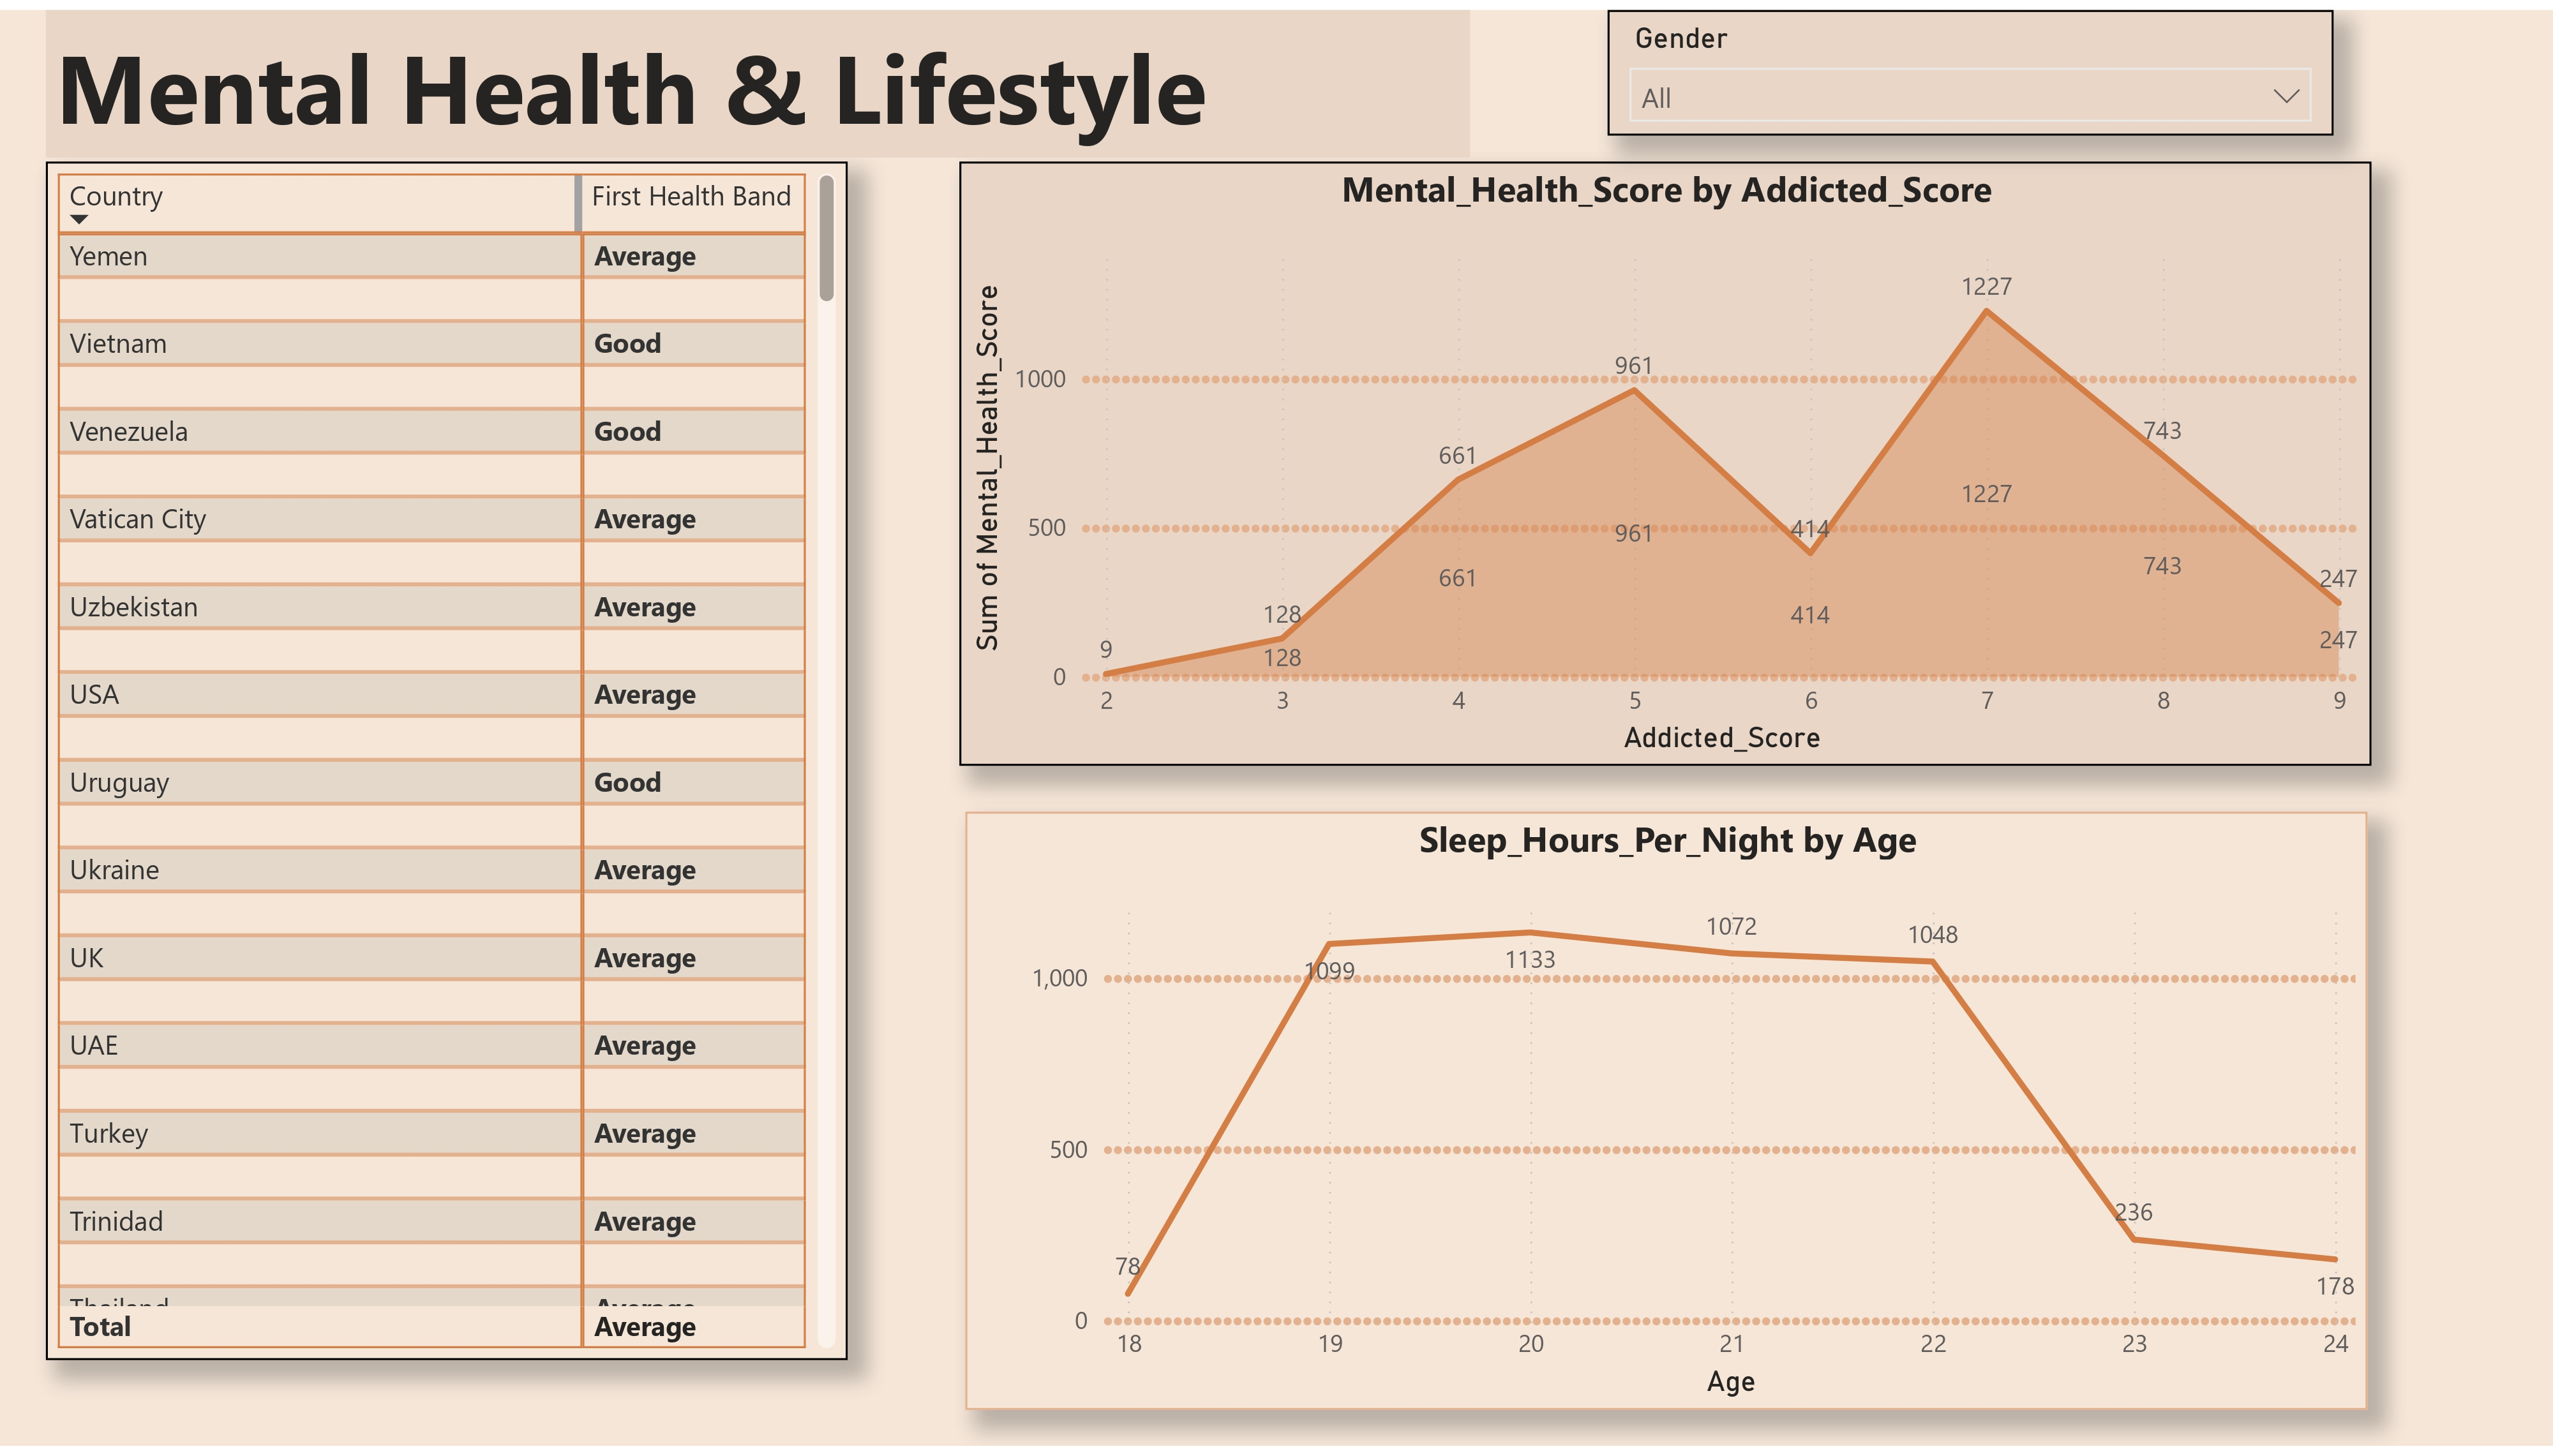

The page's visual inventory and layout, read from the dashboard file:
{"tool":"powerbi","page":{"name":"Mental Health & Lifestyle","canvas":[1280,720],"ordinal":1},"visuals":[{"type":"pivotTable","fields":{"Rows":["Student Details.Country"],"Values":["Min(Student Details.Health Band)"]},"box":[359.5,194.3,451.8,259.1],"z":0},{"type":"stackedAreaChart","title":" Mental_Health_Score by Addicted_Score","fields":{"Category":["Student Details.Addicted_Score"],"Y":["Sum(Student Details.Mental_Health_Score)"]},"box":[840.4,194.3,425.9,259.1],"z":1000},{"type":"lineChart","title":" Sleep_Hours_Per_Night by Age","fields":{"Category":["Student Details.Age"],"Y":["Sum(Student Details.Sleep_Hours_Per_Night)"]},"box":[362.7,471.2,903.5,229.9],"z":2000},{"type":"textbox","box":[22.7,0,714.1,74.5],"z":3000},{"type":"slicer","fields":{"Values":["Student Details.Gender"]},"box":[25.9,74.5,223.5,98.8],"z":3001},{"type":"slicer","fields":{"Values":["Student Details.Country"]},"box":[19.4,336.8,225.1,218.6],"z":3002},{"type":"slicer","fields":{"Values":["Student Details.Academic_Level"]},"box":[22.7,571.6,221.8,129.5],"z":3003},{"type":"slicer","fields":{"Values":["Student Details.Age"]},"box":[22.7,194.3,221.8,115],"z":3004},{"type":"cardVisual","fields":{"Data":["Student Details.Total Students"]},"box":[362.7,74.5,186.2,103.6],"z":3005},{"type":"cardVisual","fields":{"Data":["Student Details.Addicted Student Count"]},"box":[811.2,69.6,242.9,108.5],"z":3006},{"type":"cardVisual","fields":{"Data":["Count(Student Details.Mental_Health_Score)"]},"box":[589.4,69.6,202.4,108.5],"z":3007},{"type":"cardVisual","fields":{"Data":["Count(Student Details.Country)"]},"box":[1091.4,64.8,174.9,113.3],"z":3008}]}

Visuals, with their boxes in screenshot pixels (x1, y1, x2, y2), scaled from the page's 1280x720 canvas onto the 2553x1456 screenshot:
pivotTable - Student Details.Country x Min(Student Details.Health Band): 717 393 1618 917
" Mental_Health_Score by Addicted_Score" stackedAreaChart: 1676 393 2526 917
" Sleep_Hours_Per_Night by Age" lineChart: 723 953 2526 1418
textbox: 45 0 1469 151
slicer - Student Details.Gender: 52 151 497 350
slicer - Student Details.Country: 39 681 488 1123
slicer - Student Details.Academic_Level: 45 1156 488 1418
slicer - Student Details.Age: 45 393 488 625
cardVisual - Student Details.Total Students: 723 151 1095 360
cardVisual - Student Details.Addicted Student Count: 1618 141 2102 360
cardVisual - Count(Student Details.Mental_Health_Score): 1176 141 1579 360
cardVisual - Count(Student Details.Country): 2177 131 2526 360
